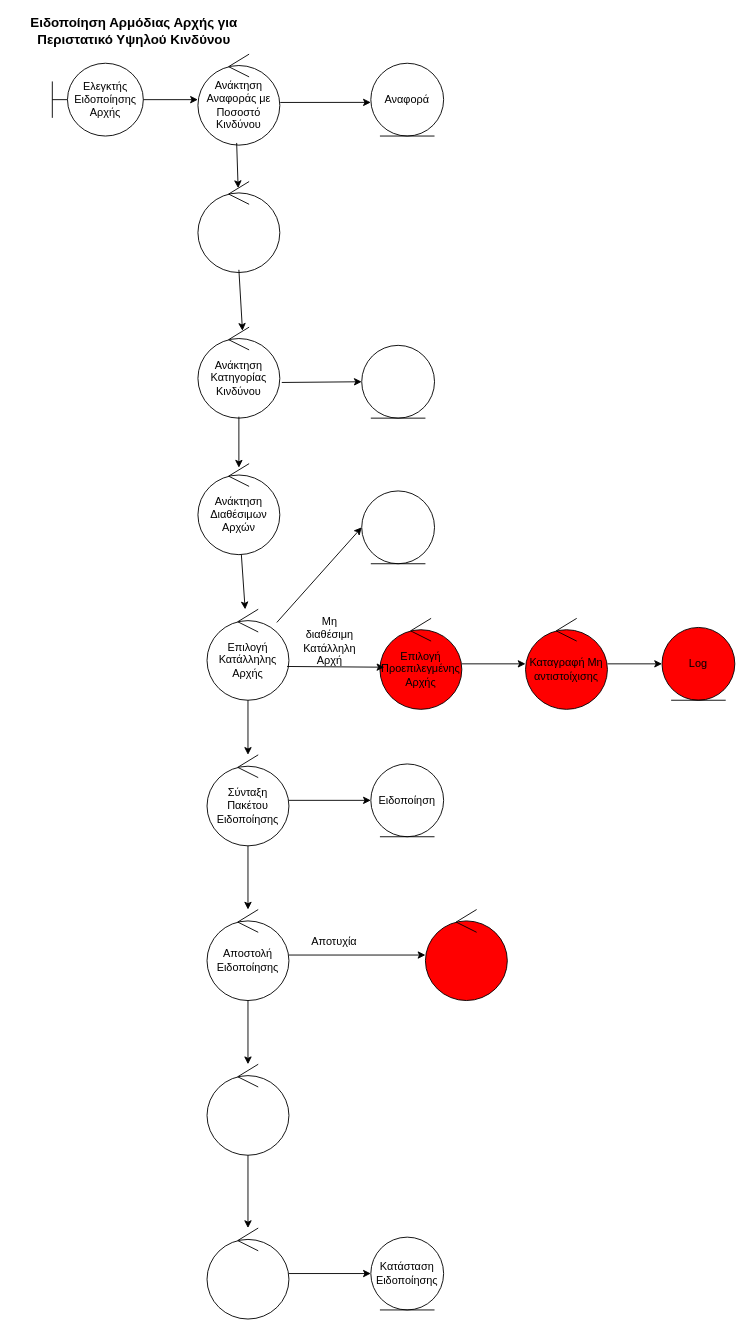
The diagram is 751 pixels wide and 1335 high, and some of its shapes have lost their labels. The shapes that lost their labels are listed below. From the top down, each one's box as (x1, y1, x2, y2) in pixels, then its label:
(197, 181, 280, 273): Έλεγχος Κατωφλίου Ποσοστού
(361, 344, 435, 418): Κατηγορία Κινδύνου
(361, 490, 435, 564): Αρμόδια Αρχή
(425, 909, 507, 1001): Αντιμετώπιση αποτυχίας αποστολής
(206, 1063, 289, 1155): Καταγραφή Απόκρισης Αρχής
(206, 1227, 289, 1319): Ενημέρωση Κατάστασης Ειδοποίησης
